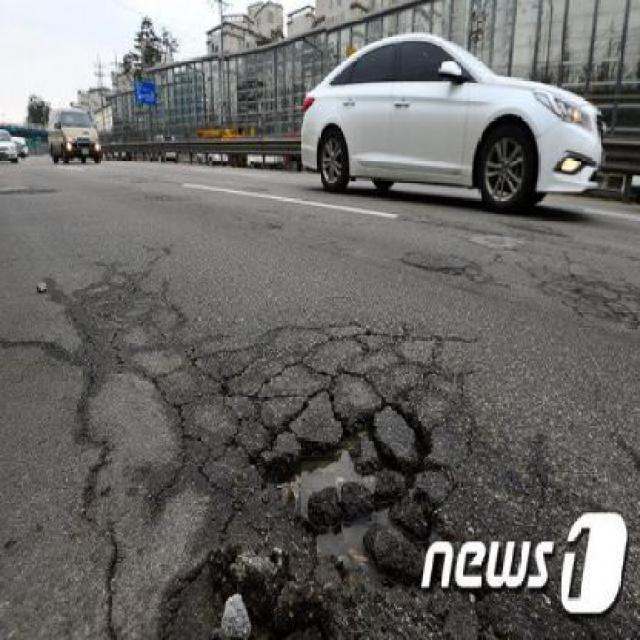Buraco: (242, 399, 466, 600)
